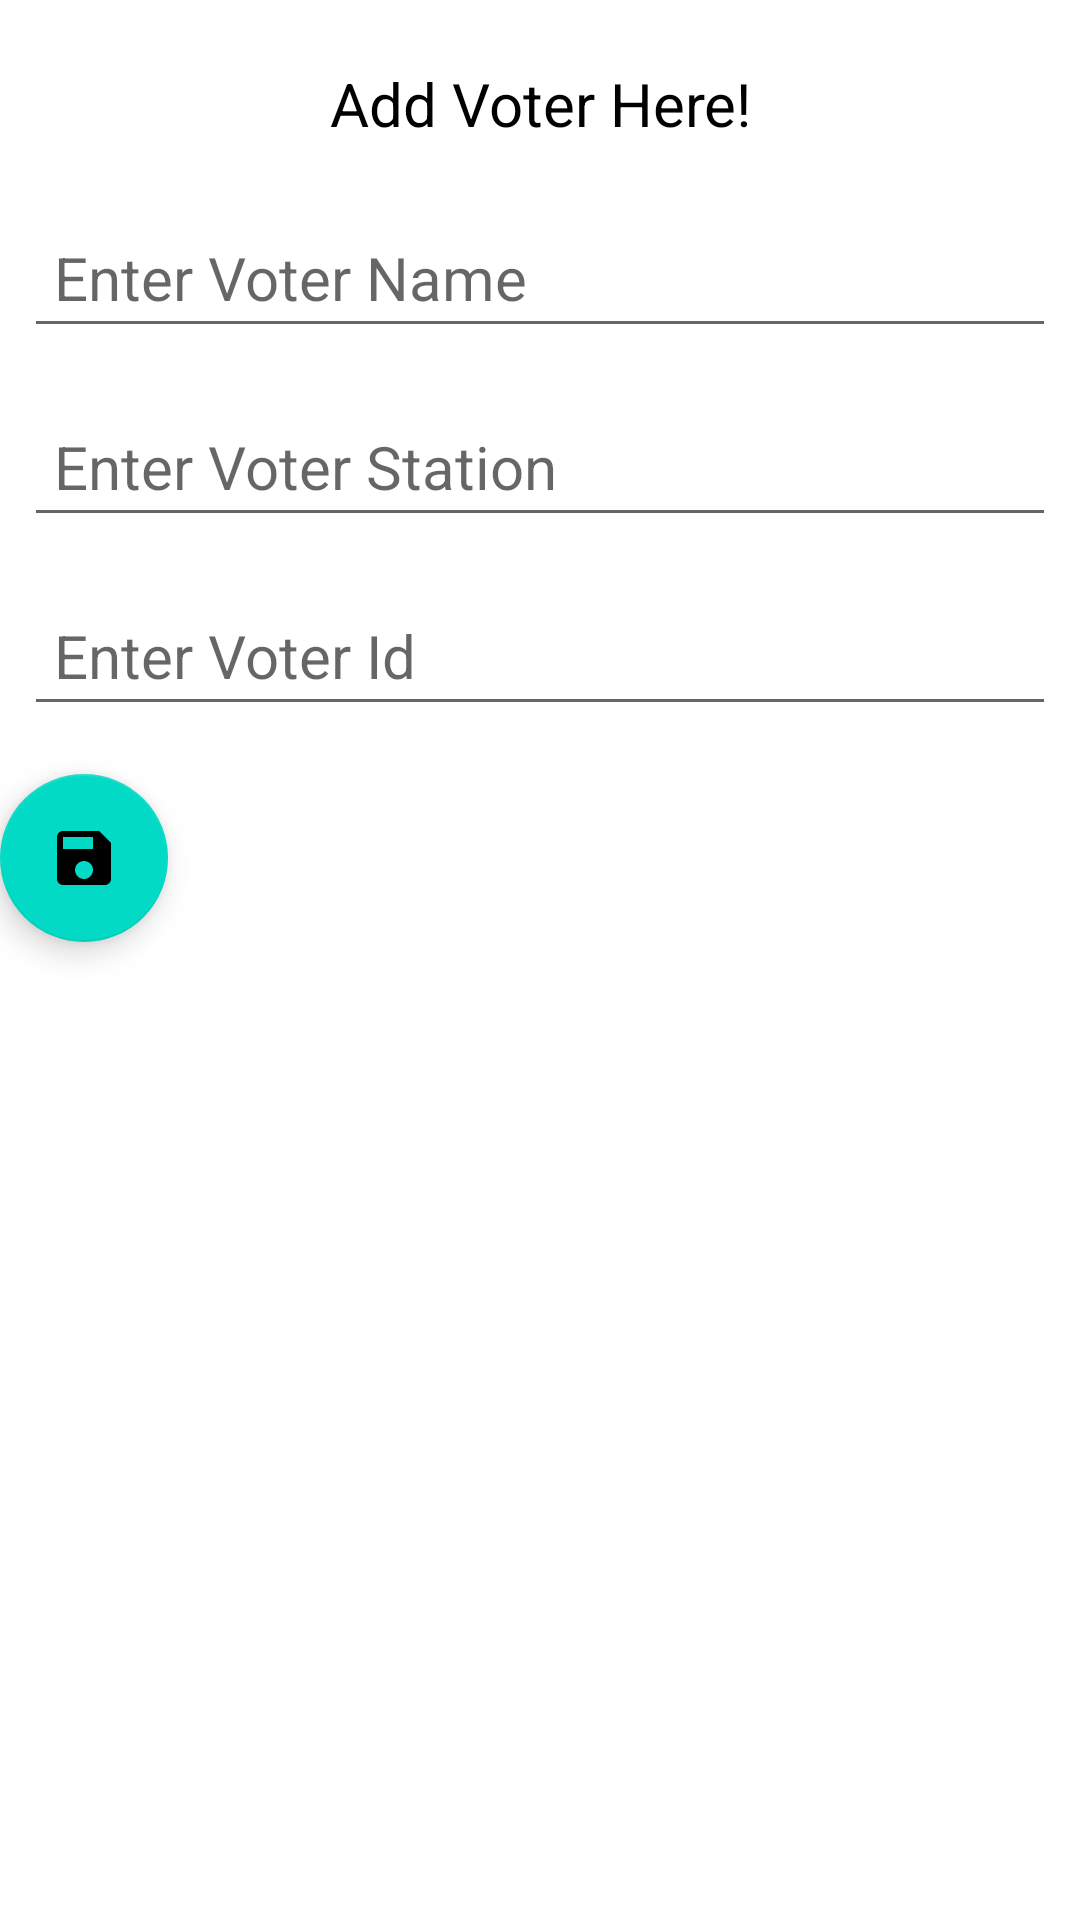

Locate icon controls on the screen. Image size 1080x1920, boxes as (x1, y1, x2, y2).
Save Voter Button: (0, 774, 168, 942)
